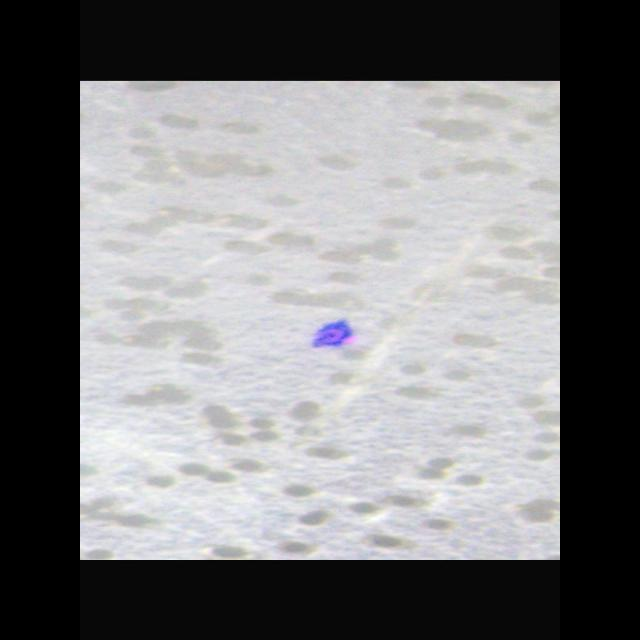Fibre: (296, 318, 372, 354)
